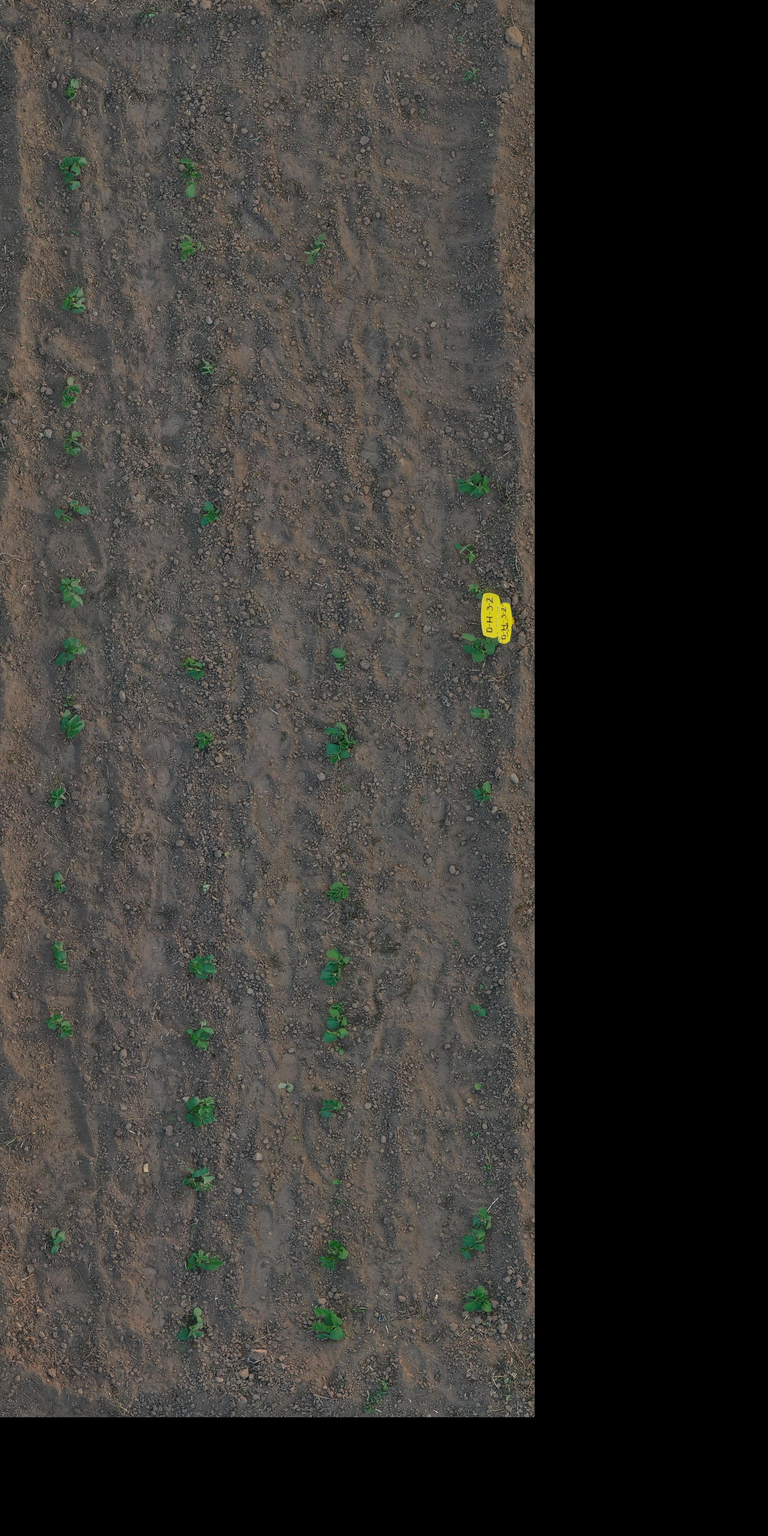s: (459, 1226, 486, 1261), (304, 232, 328, 266), (179, 234, 206, 260), (455, 478, 485, 499), (177, 1320, 207, 1341), (324, 947, 350, 971), (182, 1166, 210, 1188), (184, 1167, 216, 1186), (185, 1095, 204, 1127), (324, 722, 350, 744), (325, 742, 351, 764), (324, 1312, 344, 1340), (63, 286, 86, 310), (182, 171, 202, 198), (470, 781, 492, 805), (63, 586, 86, 608), (187, 1248, 210, 1270), (462, 1289, 484, 1312), (324, 1008, 348, 1029), (471, 1206, 492, 1230), (63, 636, 88, 656), (470, 643, 496, 662), (474, 1285, 492, 1312), (454, 542, 476, 564), (186, 1027, 209, 1048), (58, 576, 82, 596), (320, 1098, 344, 1118), (198, 1105, 219, 1126), (470, 472, 490, 494), (322, 1027, 349, 1043), (316, 1254, 341, 1271), (461, 632, 480, 654), (319, 968, 342, 986), (326, 881, 349, 899), (319, 1308, 343, 1325), (328, 1240, 348, 1260), (61, 376, 80, 397), (69, 156, 88, 176), (194, 731, 214, 750), (188, 954, 208, 973), (64, 78, 80, 101), (192, 962, 212, 980), (189, 1033, 209, 1051), (69, 500, 91, 516), (64, 431, 83, 449), (205, 1252, 224, 1270), (44, 1013, 64, 1030), (199, 356, 215, 377), (59, 709, 73, 733), (53, 940, 68, 962), (192, 1180, 217, 1193), (179, 158, 198, 175), (64, 172, 81, 191), (54, 508, 74, 524), (51, 787, 66, 808), (59, 156, 75, 175), (193, 1026, 214, 1040), (66, 718, 83, 735), (57, 645, 75, 661), (53, 872, 67, 892), (68, 714, 85, 730), (62, 443, 81, 457), (54, 654, 76, 666), (470, 707, 490, 720), (200, 510, 216, 526), (180, 657, 203, 668), (203, 500, 221, 514), (334, 733, 347, 752), (462, 66, 477, 82), (60, 304, 84, 314), (469, 583, 484, 599), (331, 648, 347, 663), (50, 1228, 66, 1243), (61, 394, 78, 408), (186, 667, 204, 680), (60, 1020, 73, 1038), (50, 1236, 63, 1254), (198, 1096, 216, 1109), (311, 1322, 332, 1333), (74, 286, 86, 305), (207, 952, 217, 974), (470, 1004, 486, 1017), (191, 1306, 203, 1323), (480, 636, 500, 646), (70, 156, 85, 169), (54, 958, 69, 971), (332, 1001, 344, 1015), (324, 1248, 340, 1257), (68, 84, 78, 98), (328, 894, 343, 903), (333, 659, 344, 671), (200, 882, 211, 894), (186, 1262, 197, 1272), (473, 1082, 482, 1091), (67, 732, 78, 739), (331, 1178, 342, 1184)
